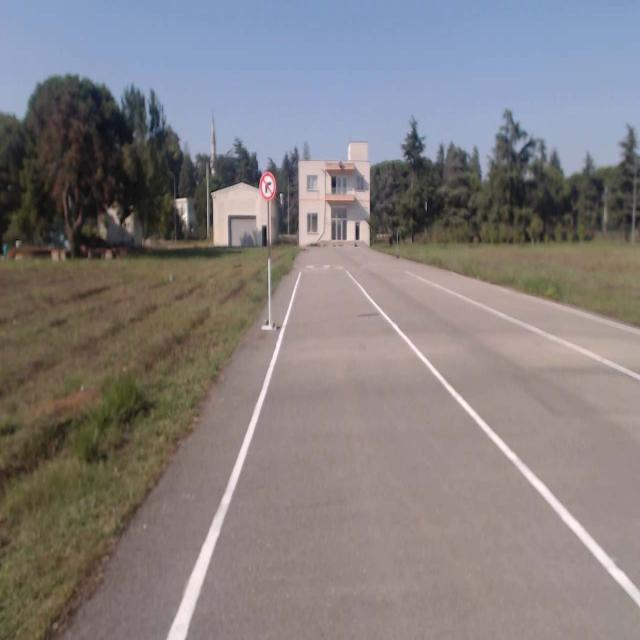sagadonulmez: (260, 172, 275, 200)
